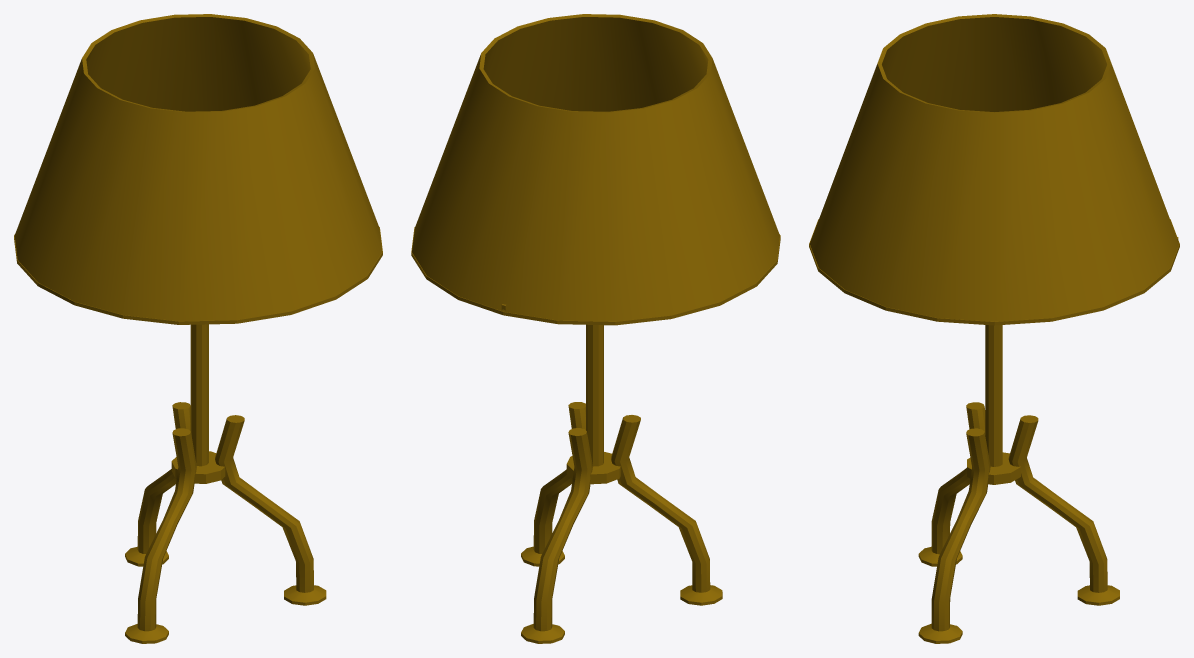
The model's file is Lamp_02.fbx.
3 renders of one model, left to right at view 1: azimuth 30°, elevation 25°; view 2: azimuth 150°, elevation 25°; view 3: azimuth 270°, elevation 25°, orthographic.
Visible parts, largest first — view 1: Lamp_02; view 2: Lamp_02; view 3: Lamp_02.
Boxes of the visible parts, box(x1,y1,x2,y2) form: Lamp_02: box(14, 14, 382, 643); Lamp_02: box(411, 14, 780, 643); Lamp_02: box(809, 14, 1179, 643).
Bounding box in the file's own units: 65.47 × 104 × 65.47.
